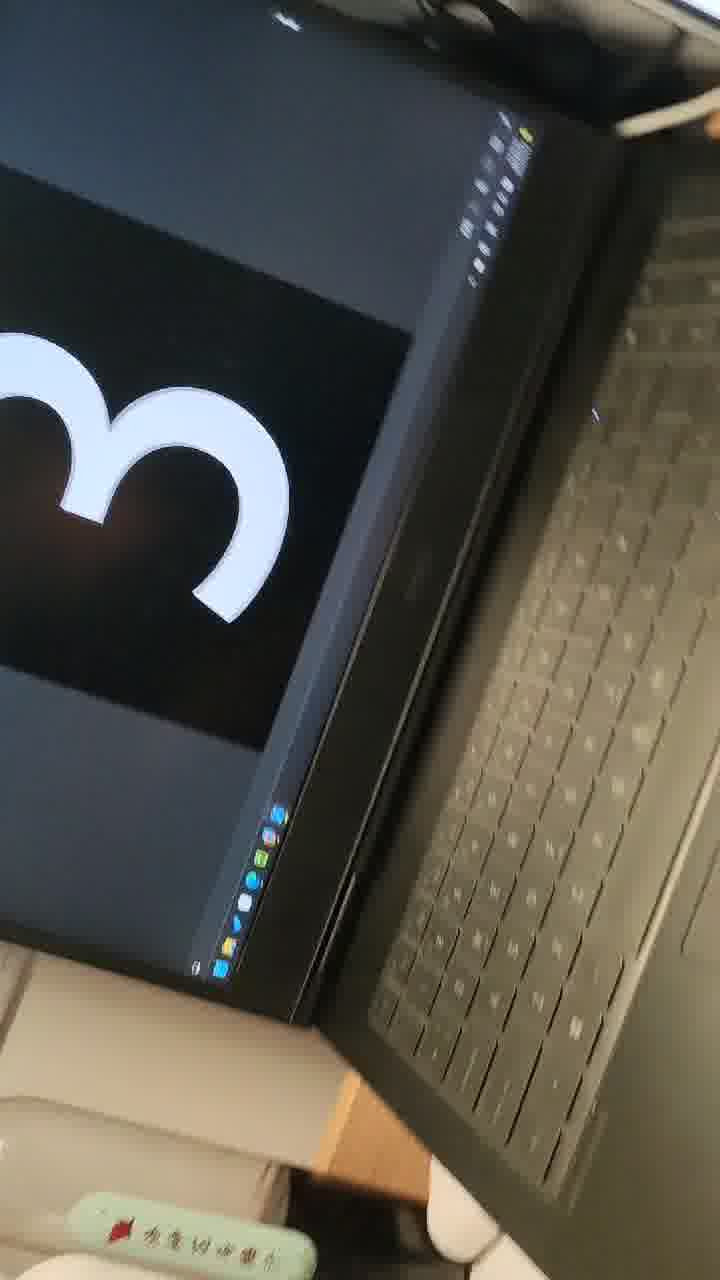three: (1, 259, 425, 757)
